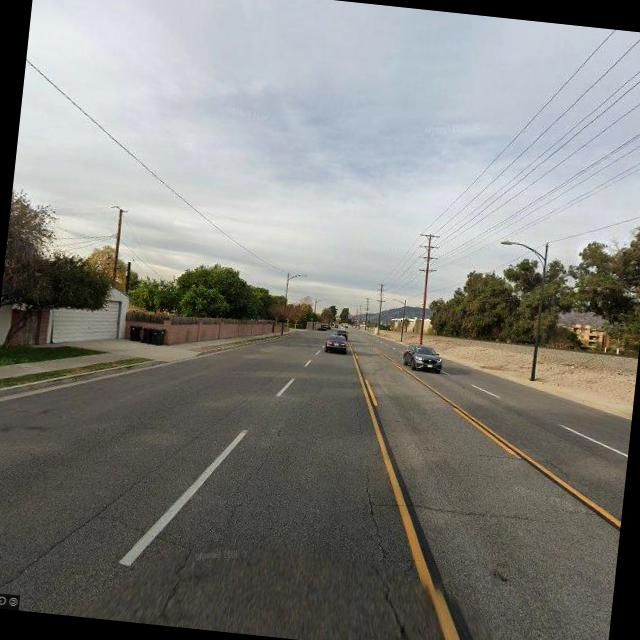crack: (162, 417, 290, 620), (374, 488, 621, 540), (350, 437, 400, 558), (406, 436, 576, 471), (97, 514, 196, 553)
